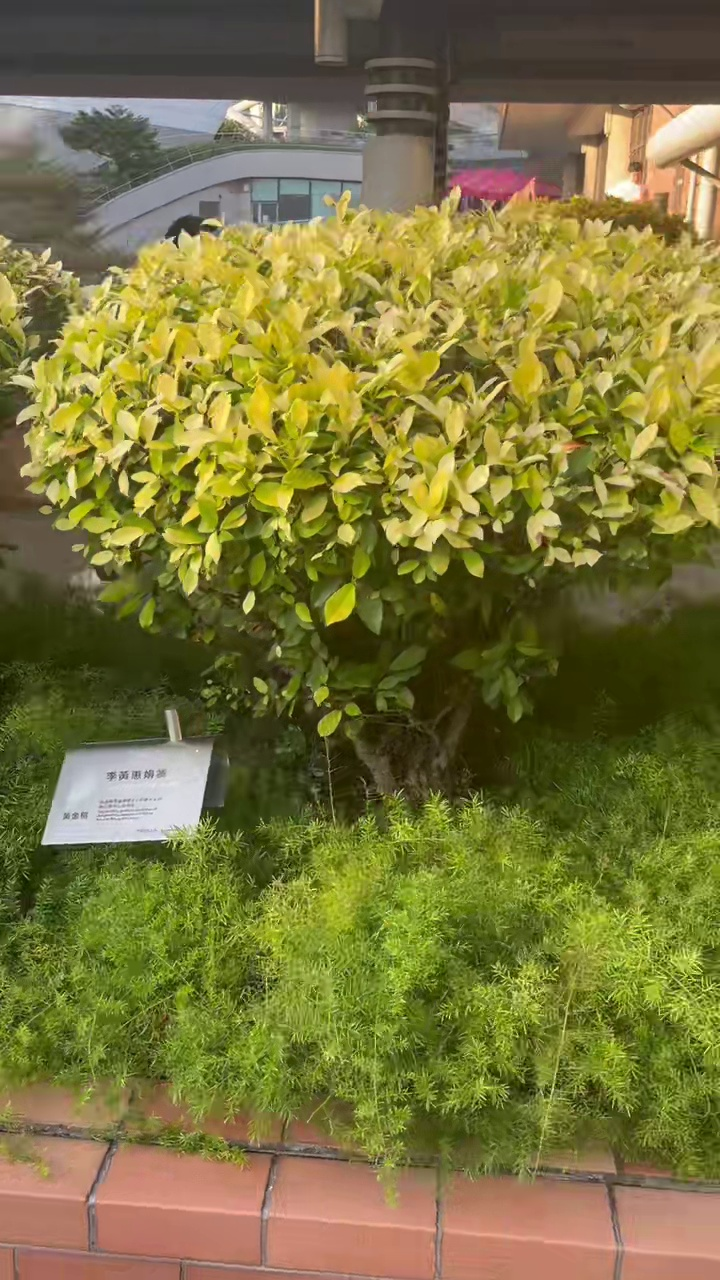Golden-leaves Fig: (25, 196, 719, 786)
